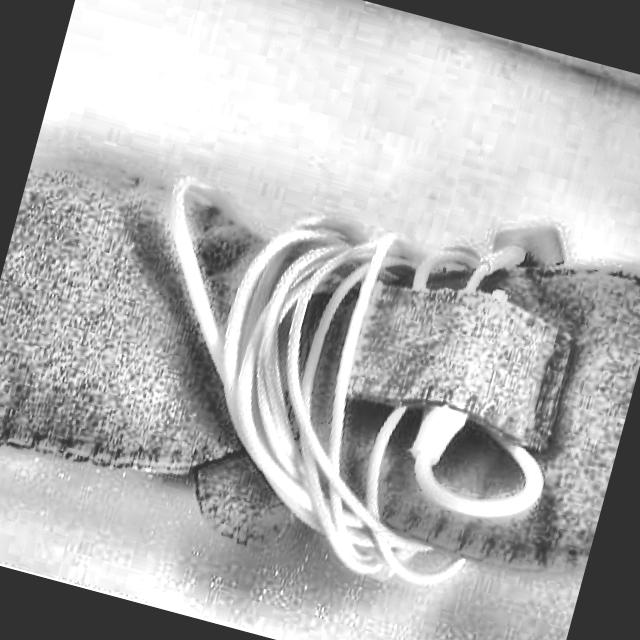Cable: (84, 128, 613, 620)
